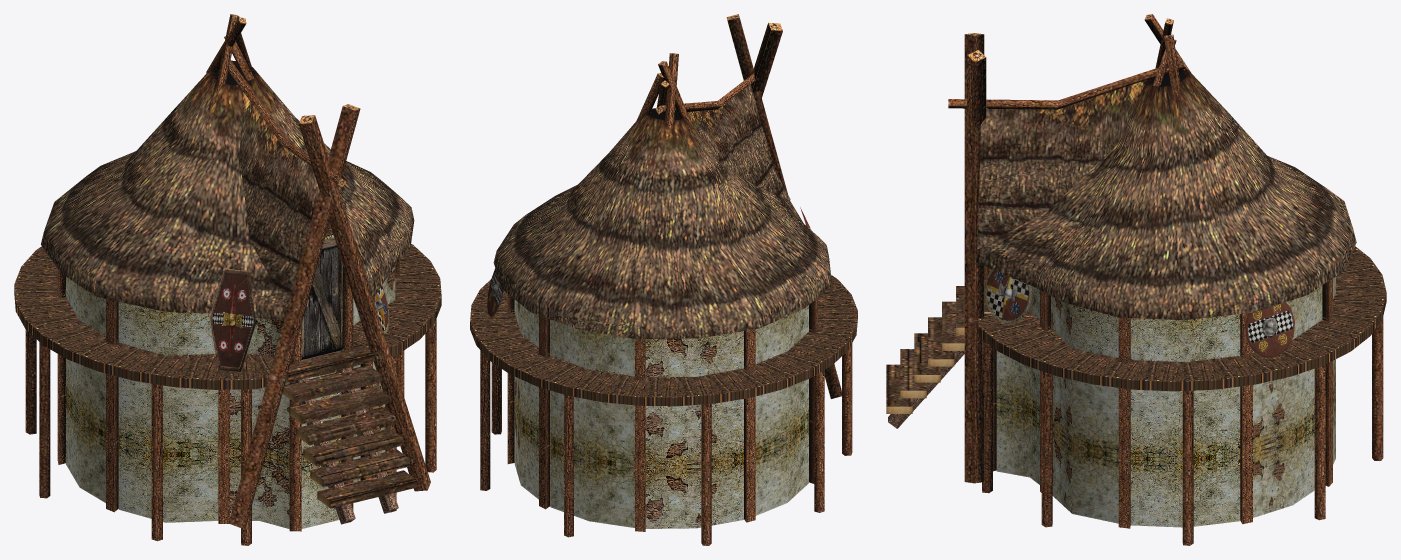
The model's file is casa_a.glb.
The picture shows the model from 3 angles, left to right: view 1: azimuth 30°, elevation 25°; view 2: azimuth 150°, elevation 25°; view 3: azimuth 270°, elevation 25°; orthographic projection. The views are drawn at different scales.
Visible parts, largest first — view 1: Casa, Puerta, Detalles; view 2: Casa, Detalles; view 3: Casa, Detalles, Puerta.
Boxes of the visible parts, box(x1,y1,x2,y2) form: Casa: box(14, 14, 441, 545); Puerta: box(295, 238, 398, 524); Detalles: box(209, 268, 389, 371); Casa: box(470, 14, 857, 545); Detalles: box(487, 207, 810, 316); Casa: box(886, 14, 1386, 545); Detalles: box(984, 269, 1294, 357); Puerta: box(888, 351, 964, 428).
Size of the model in its own units: 4.8 by 5.55 by 5.67.
Materials: 3 (3 with a texture image).
